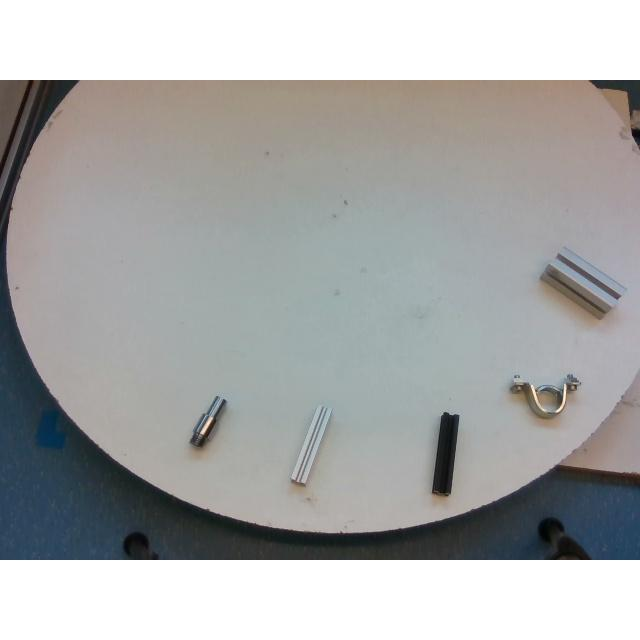Axis2: (191, 396, 227, 450)
F20_20_B: (432, 412, 461, 496)
F20_20_G: (290, 404, 330, 482)
Housing: (513, 372, 579, 416)
S40_40_G: (540, 246, 624, 318)
